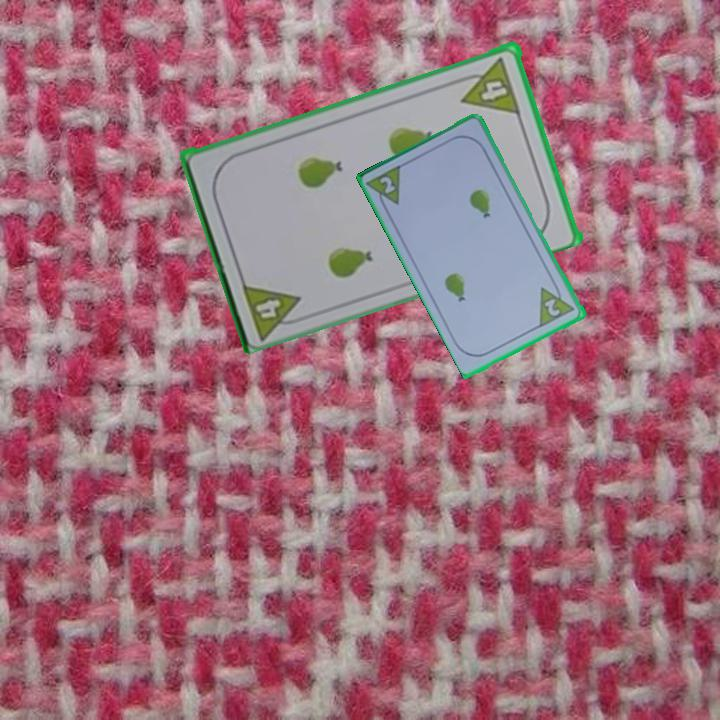2p: (541, 295, 564, 320), (376, 173, 399, 197)
4p: (238, 276, 310, 340), (453, 52, 523, 117)
